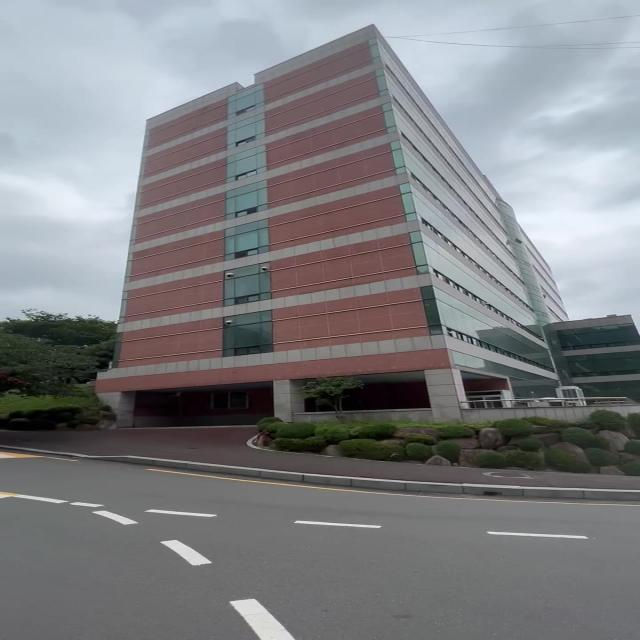building: (118, 24, 510, 376)
